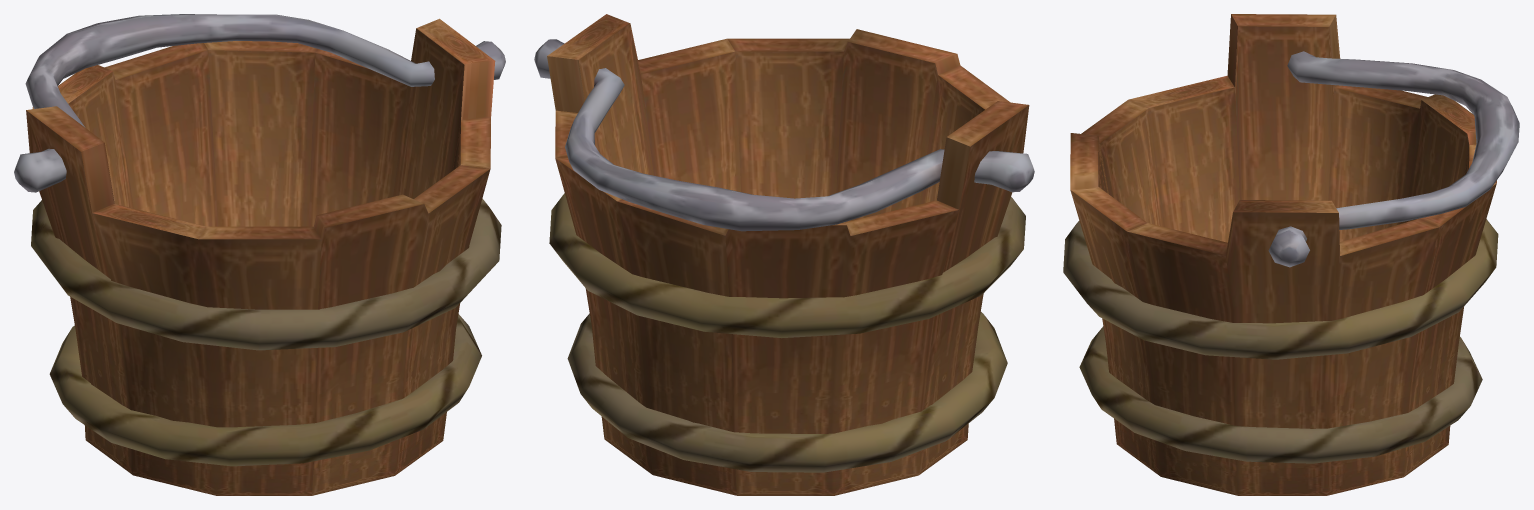
Rendered from Bucket Wooden 1.glb.
3 renders of one model, left to right at view 1: azimuth 30°, elevation 25°; view 2: azimuth 150°, elevation 25°; view 3: azimuth 270°, elevation 25°, orthographic. The views are drawn at different scales.
Parts seen in each view (by area): view 1: Bucket_Wooden_1; view 2: Bucket_Wooden_1; view 3: Bucket_Wooden_1.
Boxes of the visible parts, x1=… form: Bucket_Wooden_1: x1=14, y1=14, x2=505, y2=495; Bucket_Wooden_1: x1=534, y1=14, x2=1034, y2=495; Bucket_Wooden_1: x1=1063, y1=14, x2=1519, y2=495.
Size of the model in its own units: 0.4339 by 0.2928 by 0.3835.
Materials: 2 (2 with a texture image).
